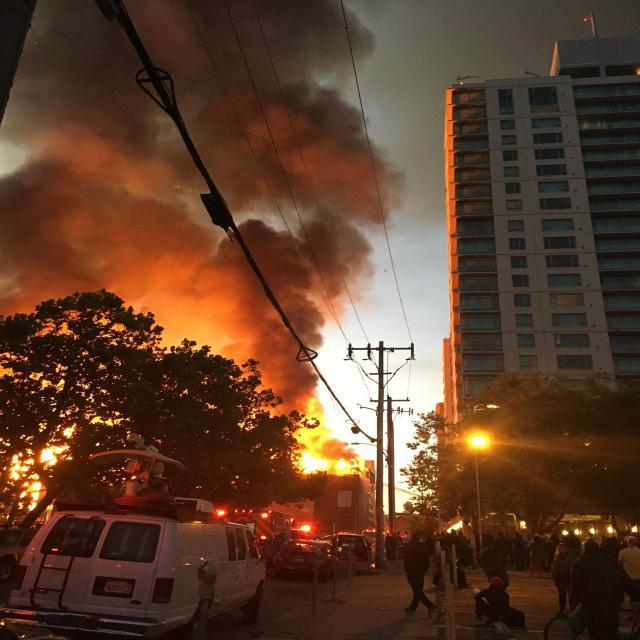Fire: (1, 362, 346, 519)
